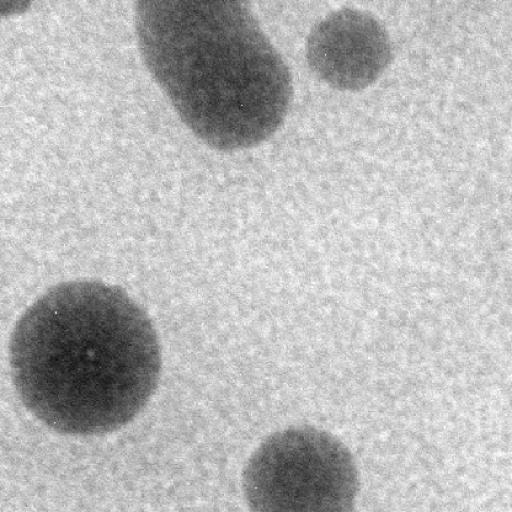Nanoparticles: (11, 281, 164, 436), (171, 34, 293, 152), (242, 425, 362, 512), (134, 0, 251, 74), (304, 12, 394, 92), (0, 0, 32, 16)
